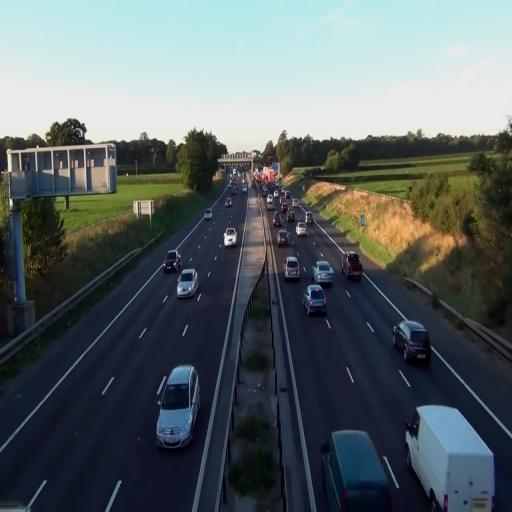vehicle: (404, 403, 495, 511), (404, 404, 494, 512), (320, 428, 395, 512), (320, 429, 394, 512), (154, 365, 200, 450), (393, 318, 430, 364), (303, 284, 326, 316), (176, 267, 199, 299), (342, 250, 362, 280), (314, 260, 334, 288), (283, 254, 301, 281), (163, 250, 181, 274), (223, 226, 238, 248), (295, 211, 308, 236), (274, 227, 290, 247), (295, 218, 308, 236), (204, 210, 213, 220)
